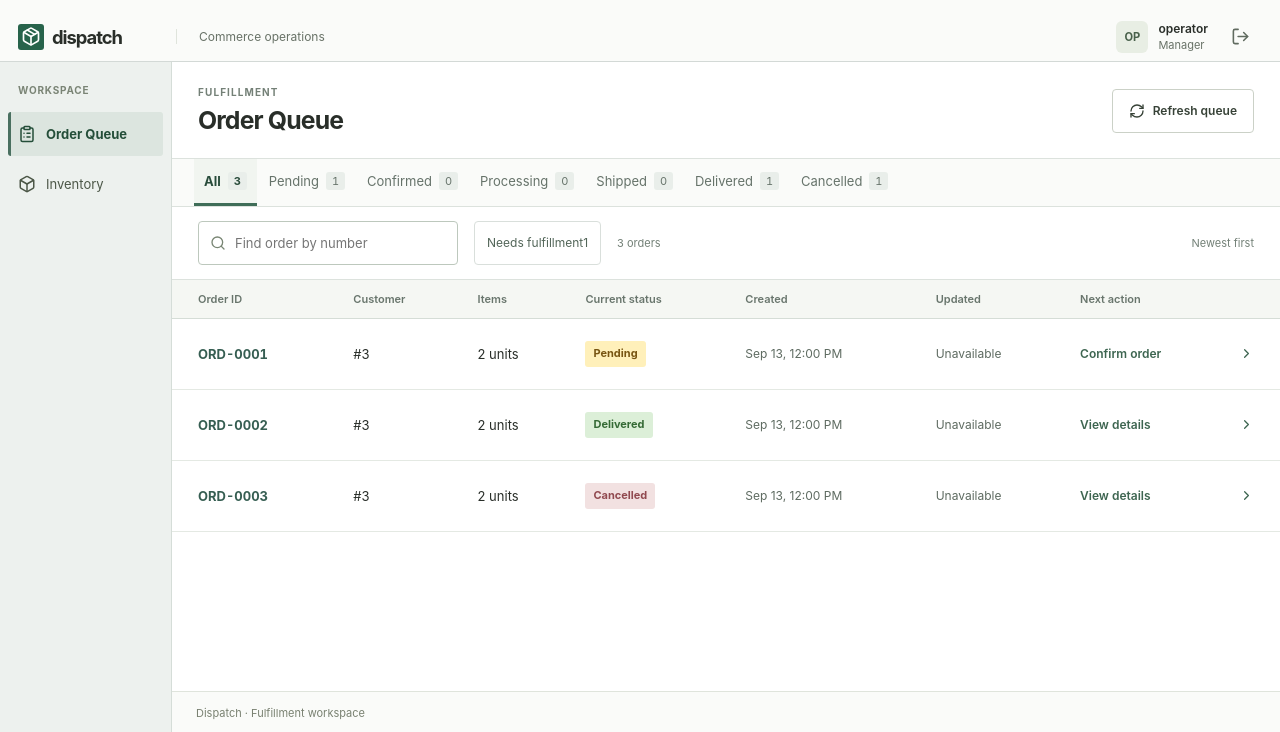
Test: filters open work and completed work independently
The image size is (1280, 732).
Expected: the table is shown, [172, 280, 1279, 532]
Click the button "Needs fulfillment 1". click: click(538, 243)
box: [474, 221, 601, 265]
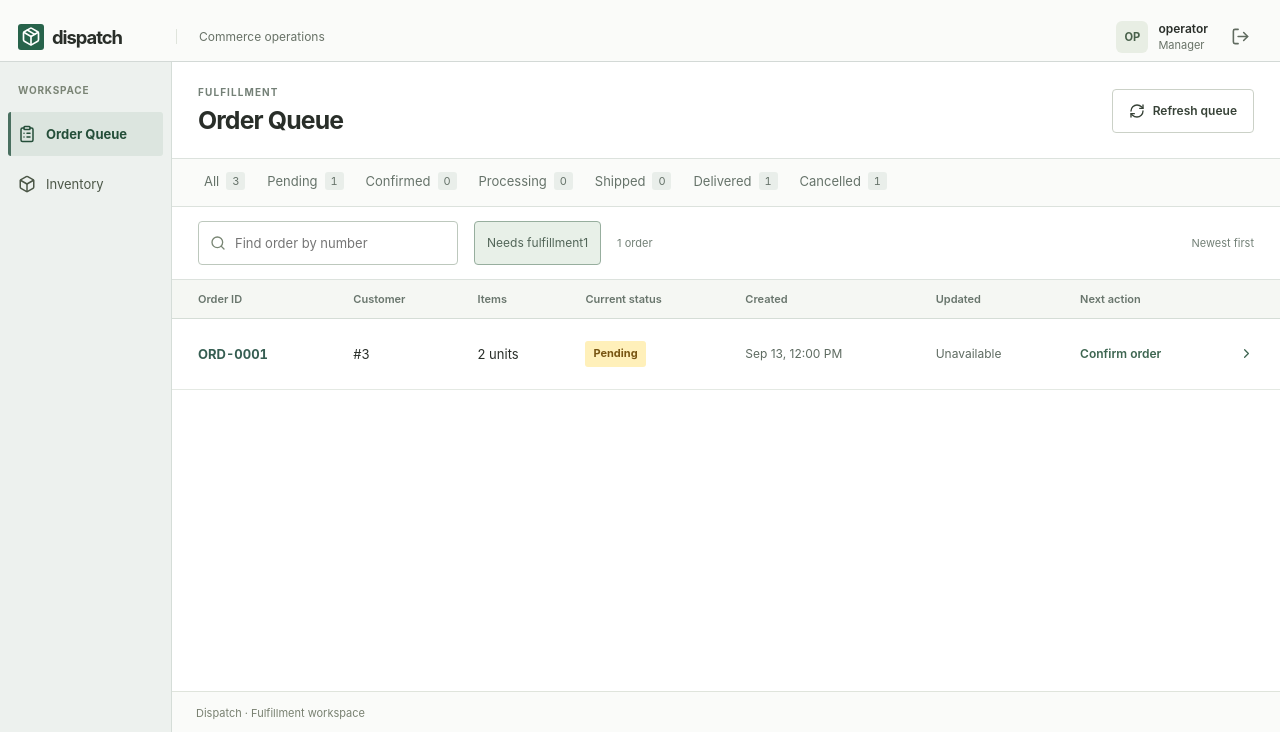
Expected: the link "ORD-0001" is shown, [198, 346, 268, 362]
Expected: the link "ORD-0002" is gone
Click the button "Delivered 1". click: click(736, 182)
box: [684, 159, 788, 206]
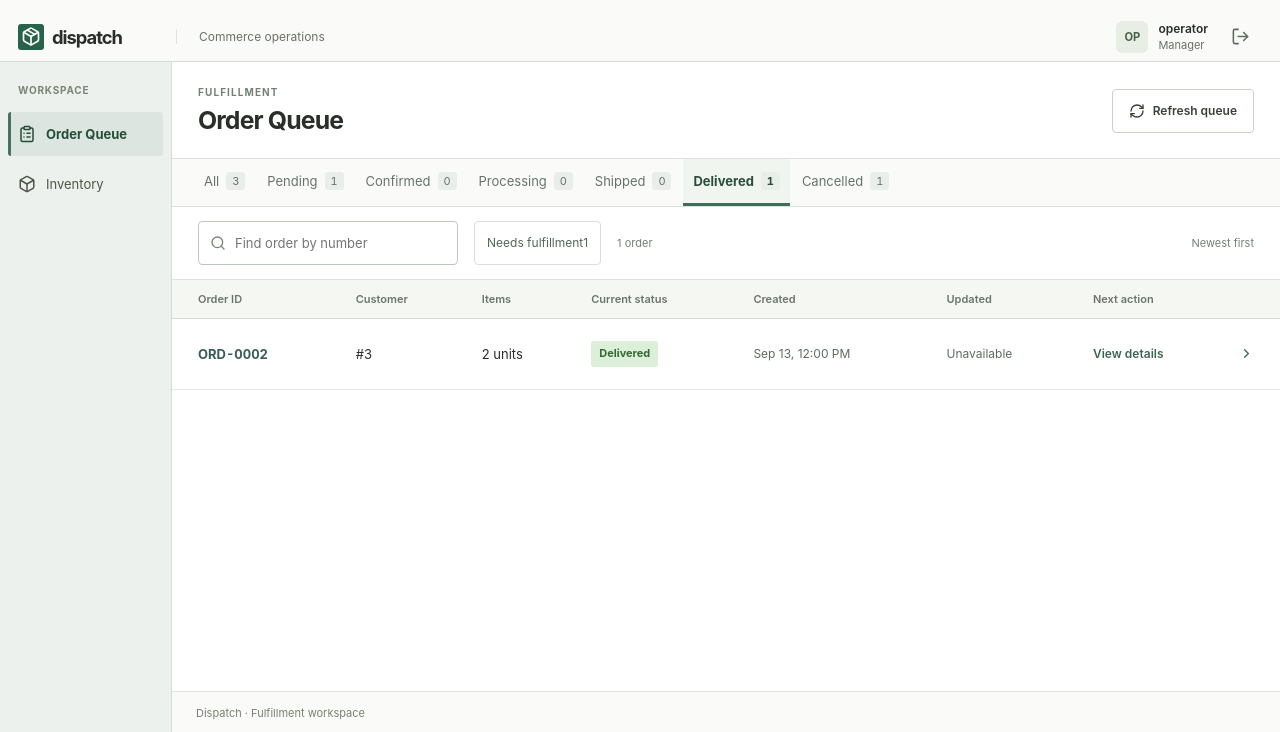
Expected: the link "ORD-0002" is shown, [198, 346, 268, 362]
Expected: the link "ORD-0001" is gone
Expected: the link "View details" is shown, [1093, 346, 1254, 362]
